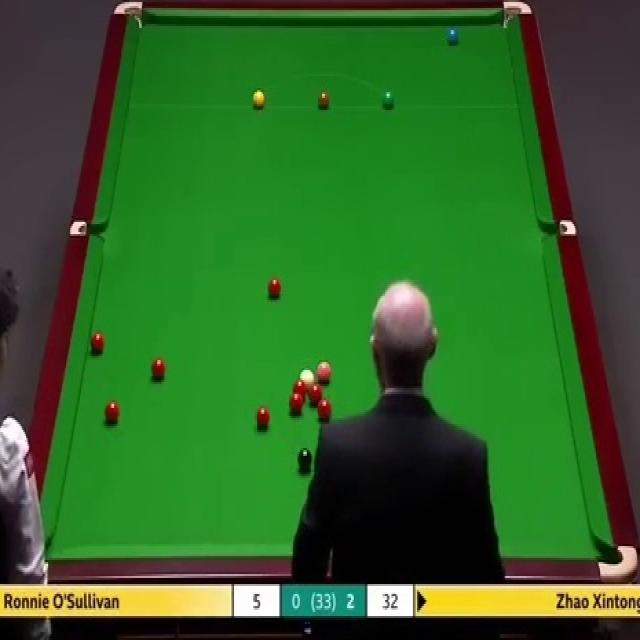pocket: (597, 541, 638, 581), (502, 1, 532, 30), (72, 220, 104, 242), (116, 1, 142, 28), (540, 220, 576, 239)
